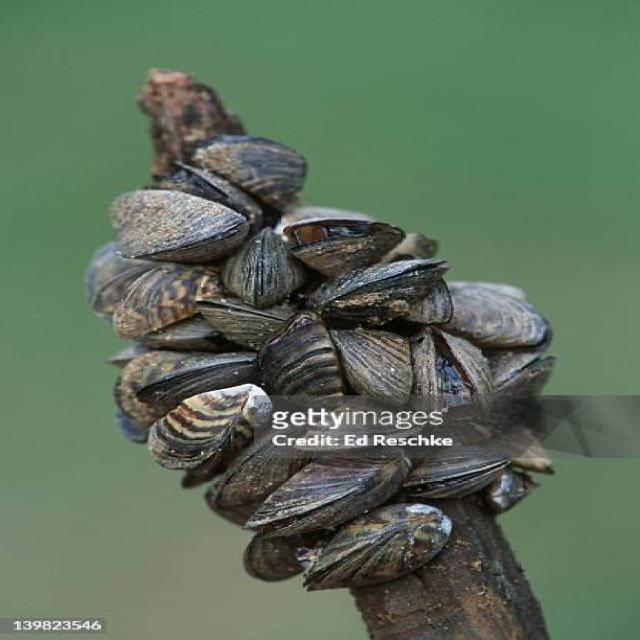Dreissena_polymorpha: (291, 496, 461, 590), (246, 454, 414, 534), (424, 265, 552, 353), (411, 319, 501, 429), (192, 135, 332, 204), (110, 189, 245, 256), (254, 308, 346, 404), (141, 398, 263, 470), (322, 310, 409, 407), (214, 436, 305, 516), (218, 226, 311, 302), (473, 341, 572, 409), (294, 211, 400, 272), (117, 266, 215, 331), (134, 355, 260, 405), (188, 286, 295, 343), (474, 408, 558, 471), (414, 449, 506, 503), (245, 526, 312, 586), (491, 466, 544, 515)
